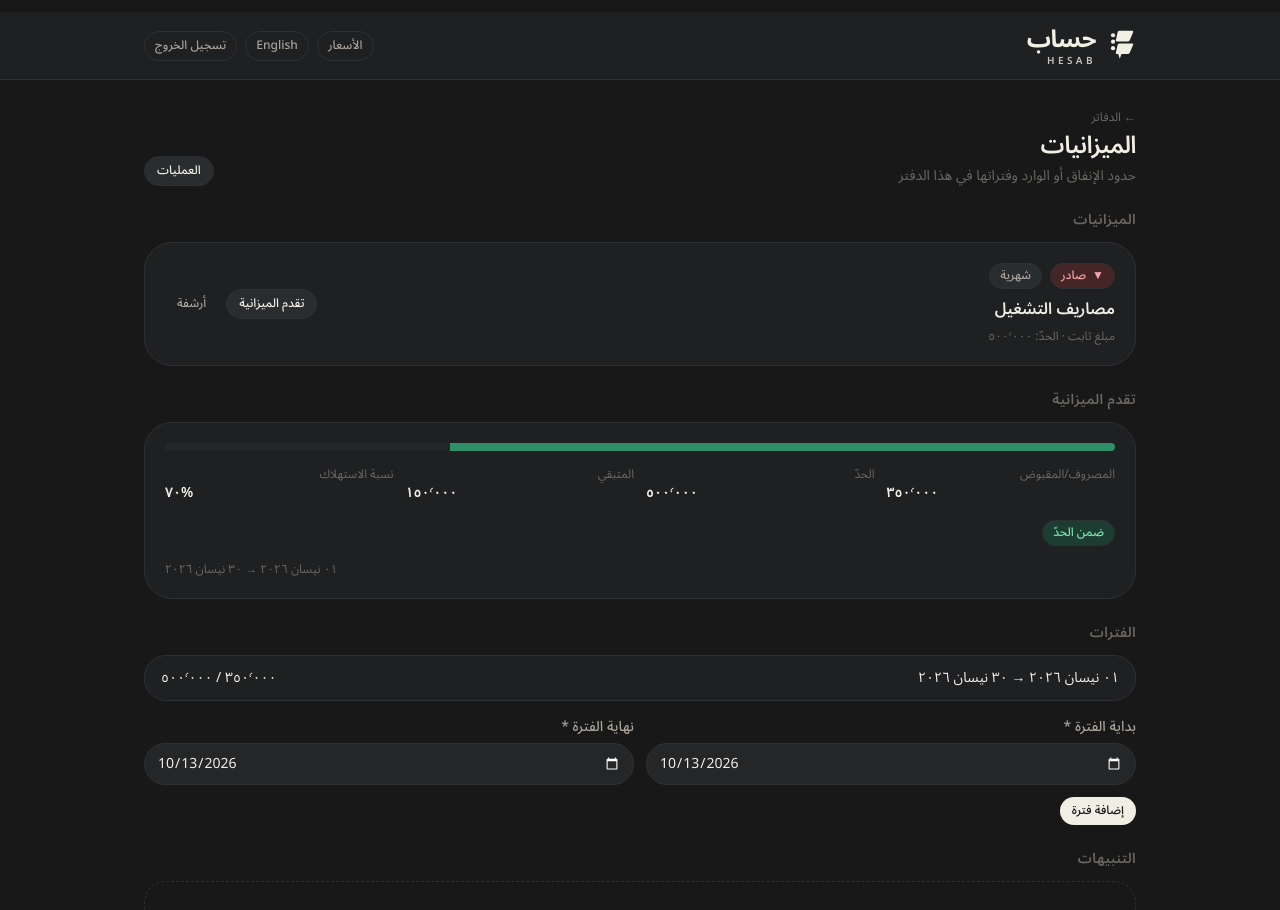
Test: BudgetsView › archives a budget and drops it from the list
Expected: the text "مصاريف التشغيل" is shown, [988, 298, 1115, 322]
Click the button "أرشفة" at (192, 304), box [165, 290, 218, 318]
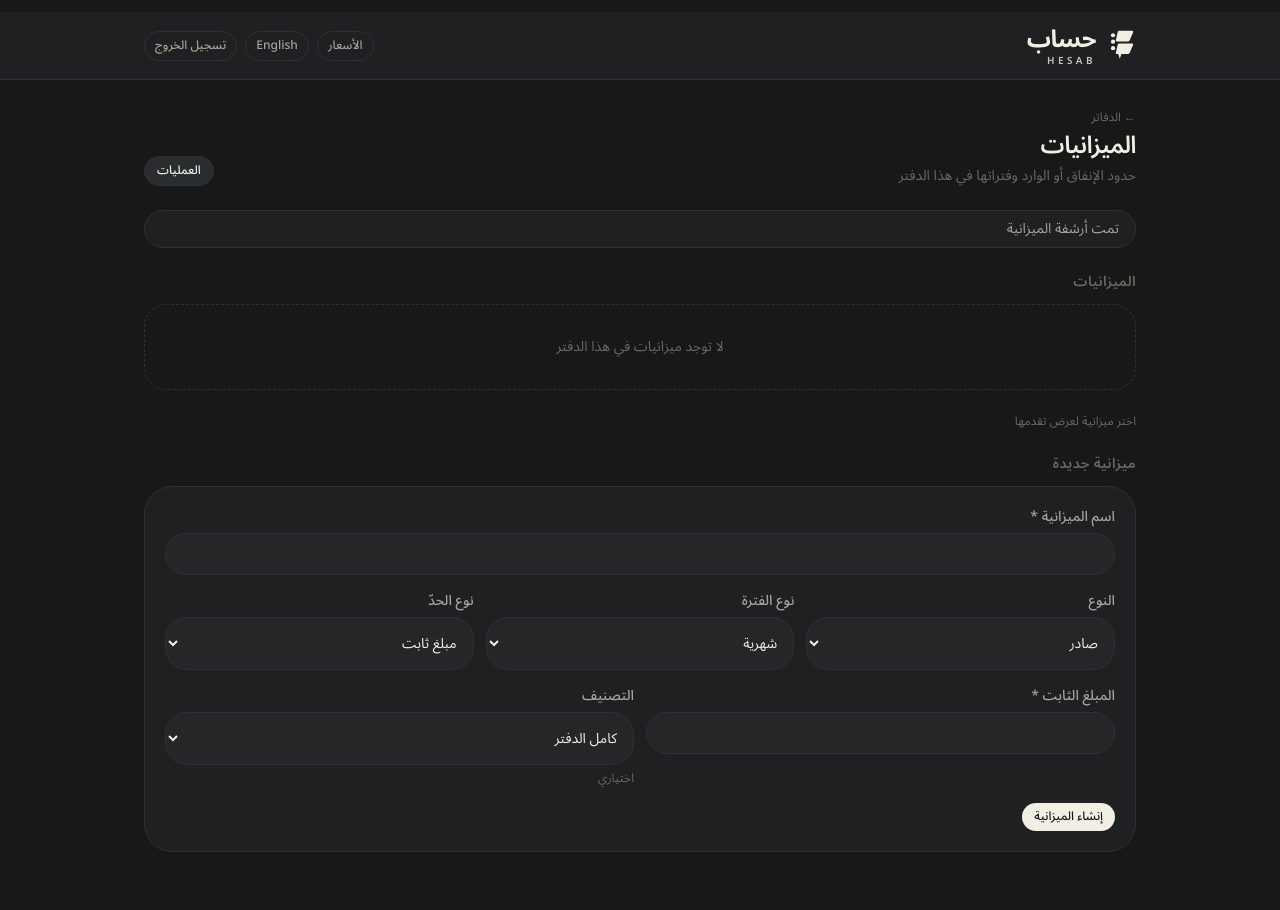
Expected: the text "مصاريف التشغيل" is gone
Expected: the text "تمت أرشفة الميزانية" is shown, [144, 210, 1136, 248]
